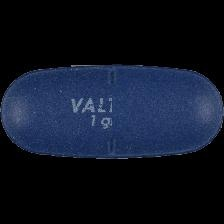63629-3982: (0, 0, 224, 224)
